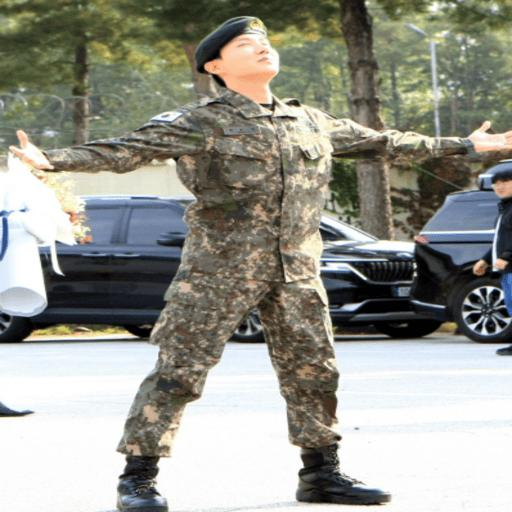korea army: (18, 15, 512, 494)
